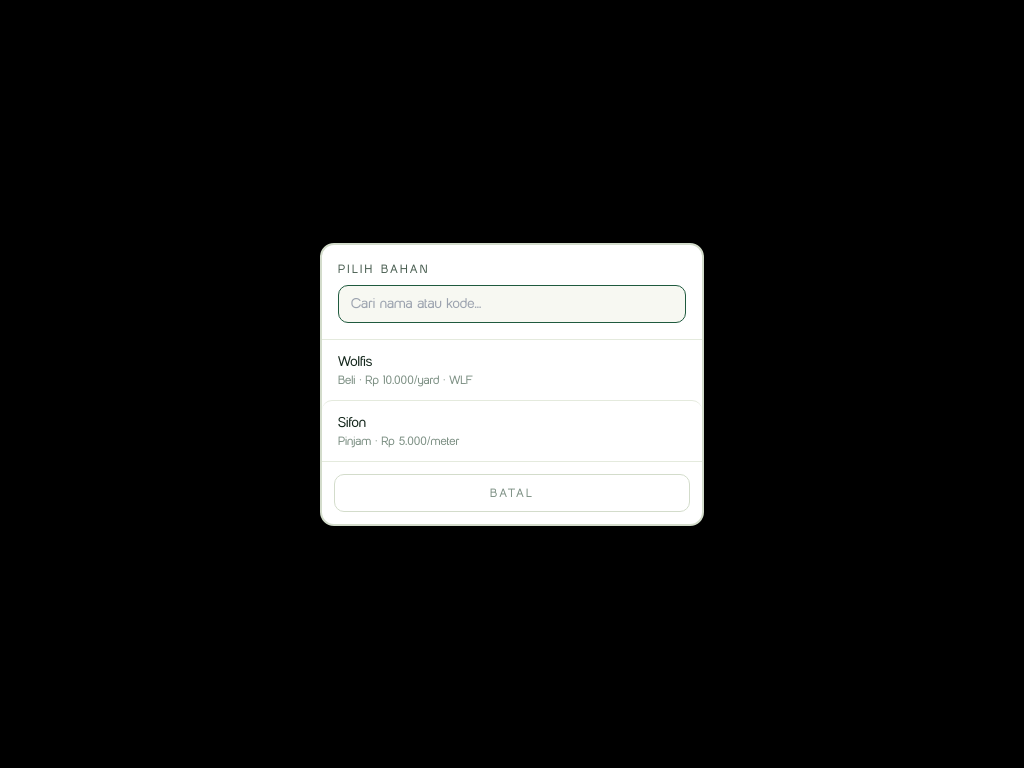
BahanPickerModal › filters by kode_bahan
Type "WLF" into the field with placeholder "Cari nama atau kode...".
click(512, 304); type("WLF")  # box [338,284,686,322]
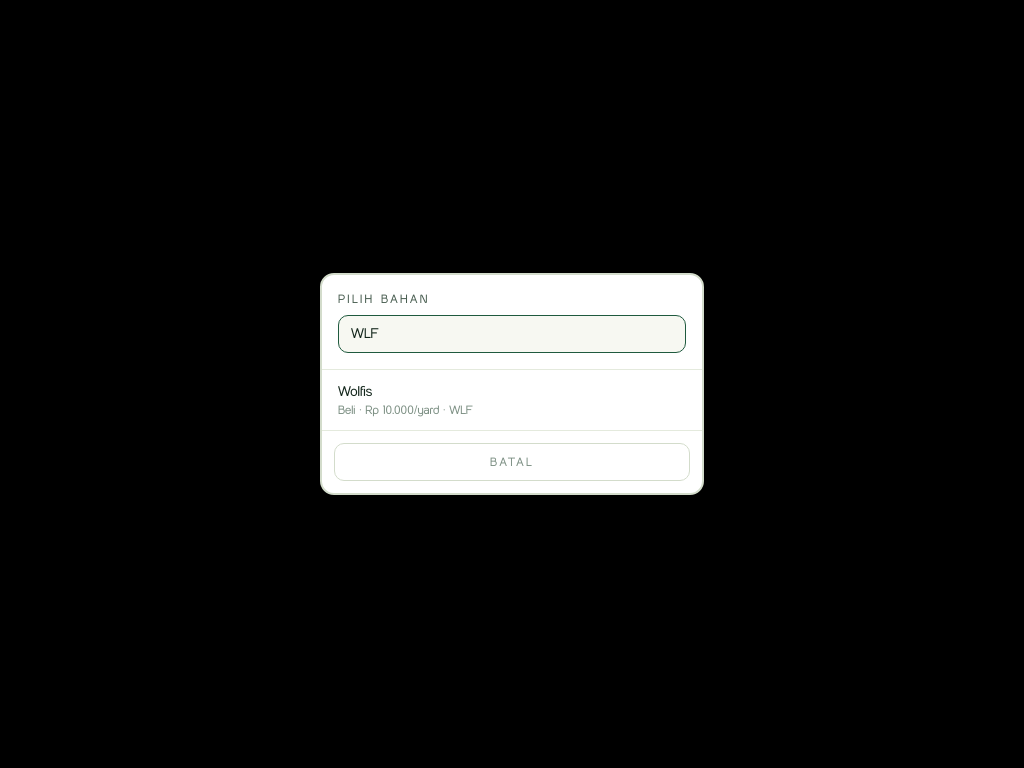
Check: the text "Wolfis" is shown, box [338,383,372,400]
Check: the button "Sifon" is gone
